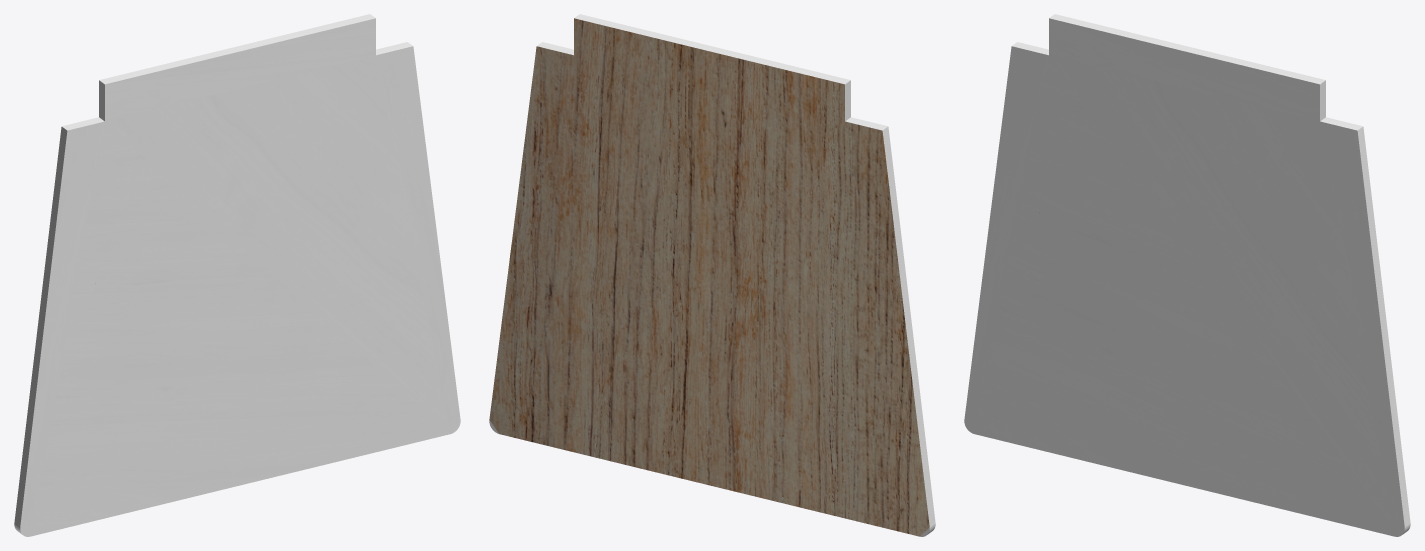
File: Ikea_stefan_bottom.obj
3 views of the same model, side by side, from view 1: azimuth 30°, elevation 25°; view 2: azimuth 150°, elevation 25°; view 3: azimuth 330°, elevation 25° (orthographic).
Visible parts, largest first — view 1: Ikea_stefan_bottom; view 2: Ikea_stefan_bottom; view 3: Ikea_stefan_bottom.
Part boxes in pixels (x1=…): Ikea_stefan_bottom: x1=14, y1=14, x2=460, y2=536; Ikea_stefan_bottom: x1=489, y1=14, x2=935, y2=536; Ikea_stefan_bottom: x1=964, y1=14, x2=1410, y2=536.
Bounding box in the file's own units: 435 × 410 × 10.
Materials: 1 (1 with a texture image).
